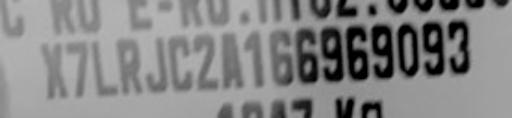letter: (36, 38, 70, 100), (266, 27, 296, 89), (114, 34, 144, 96), (88, 38, 120, 96), (190, 31, 220, 89), (166, 31, 194, 93), (64, 38, 90, 101), (294, 23, 320, 85), (318, 25, 346, 81), (370, 21, 396, 81), (242, 27, 268, 87), (218, 31, 244, 91), (144, 34, 170, 94), (420, 20, 446, 76), (396, 20, 420, 80), (448, 18, 472, 74), (346, 25, 370, 81)
